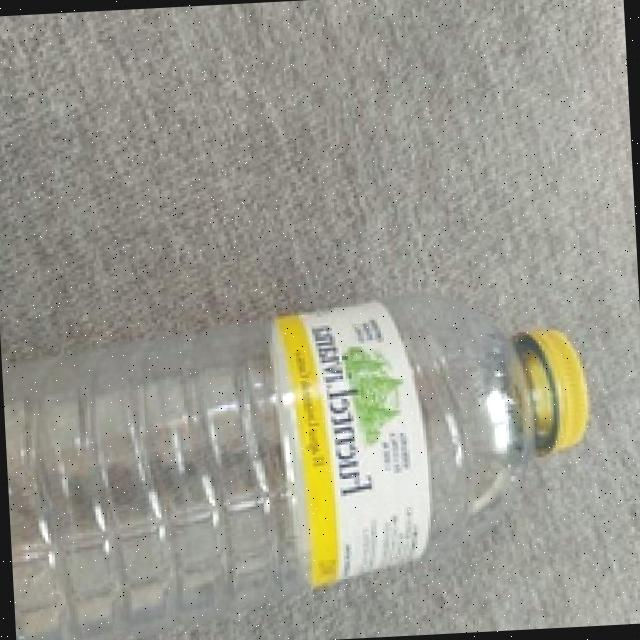bottle: (0, 282, 590, 636)
cap: (516, 324, 598, 468)
label: (274, 278, 438, 606)
